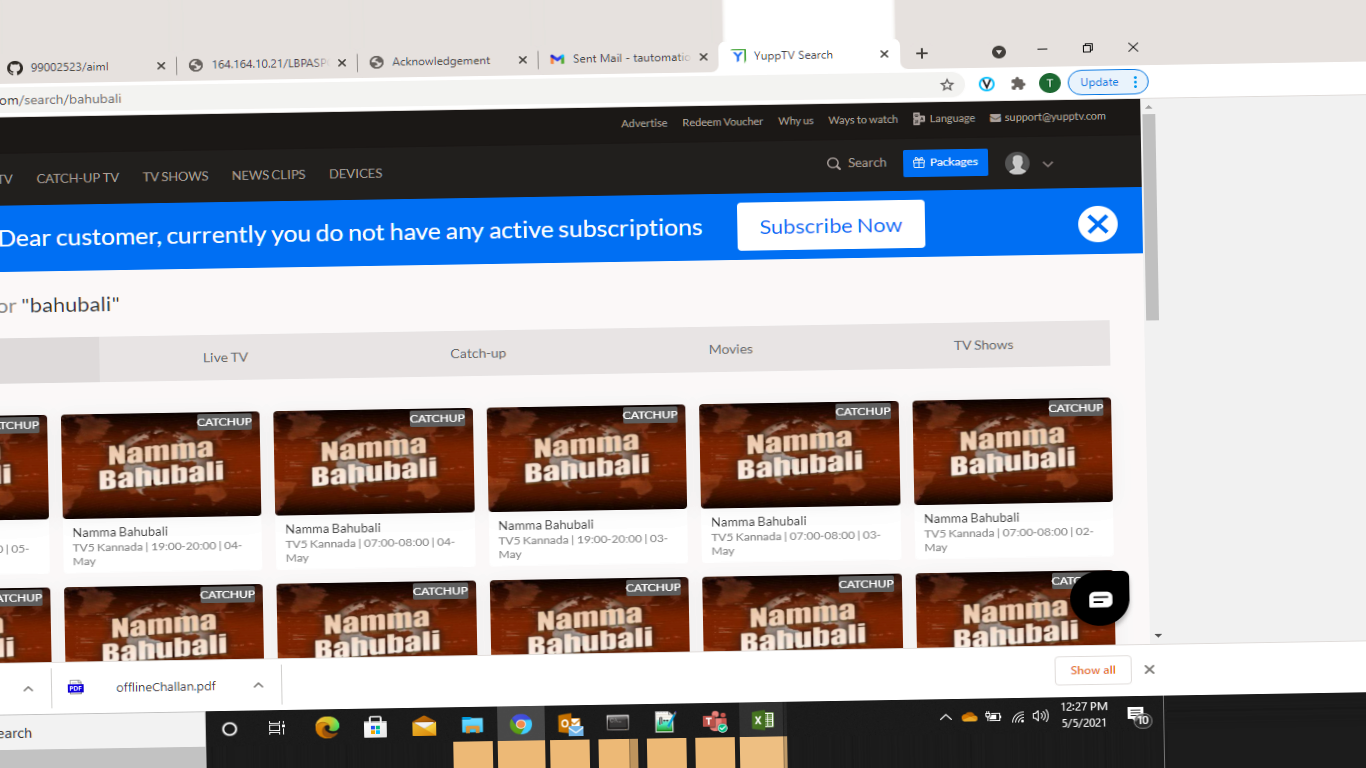profileicon: (1000, 141, 1067, 186)
searchicon: (823, 153, 901, 181)
searchtextbox: (1, 275, 156, 325)
